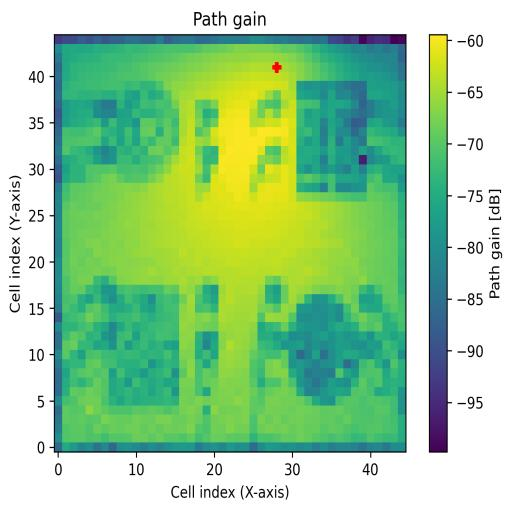Concrete: (296, 81, 367, 192)
Glass: (100, 82, 180, 182)
Metal: (288, 284, 360, 406)
Wood: (101, 284, 180, 404)
